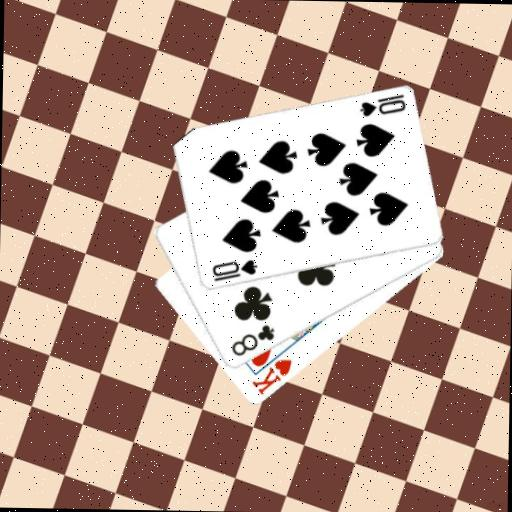10S: (356, 91, 407, 119), (209, 256, 259, 284)
8C: (228, 321, 276, 359)
KH: (249, 356, 294, 398)
